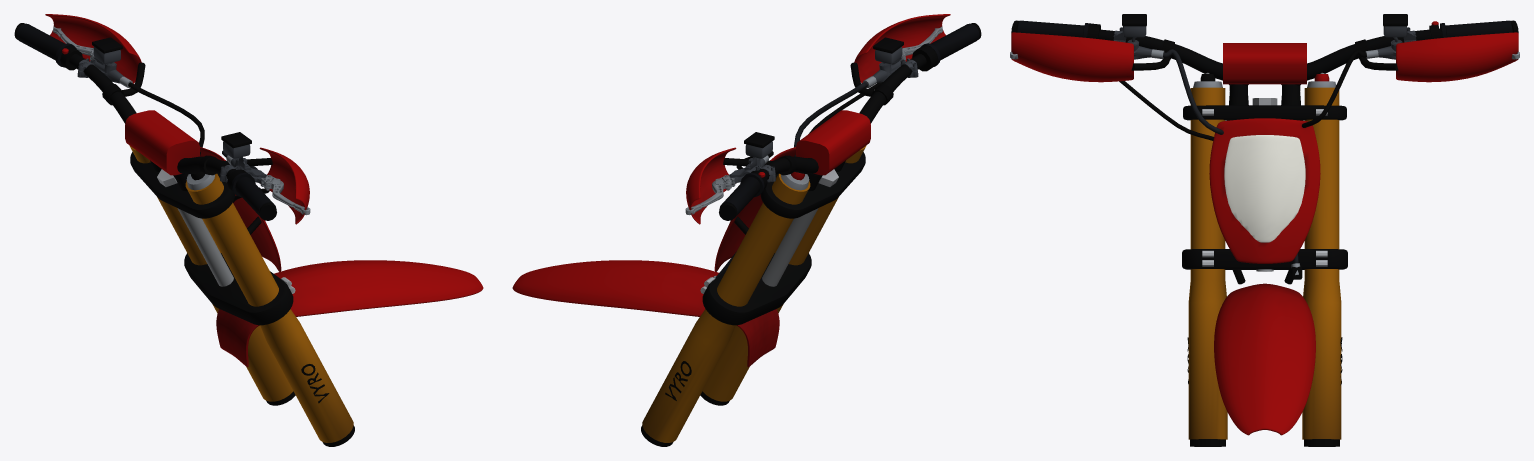
Rendered from bike_supermoto_front.glb.
3 renders of one model, left to right at view 1: azimuth 30°, elevation 25°; view 2: azimuth 150°, elevation 25°; view 3: azimuth 270°, elevation 25°, orthographic.
Visible parts, largest first — view 1: sm_fender_front, sm_forkO1, sm_forkO-1, sm_barpad, sm_clampL, sm_handguard-1, sm_clampU, sm_handlebar, sm_handguard1, sm_stem, sm_numberplate, sm_grip-1 (+5 smaller); view 2: sm_fender_front, sm_forkO-1, sm_forkO1, sm_barpad, sm_clampL, sm_handguard1, sm_clampU, sm_handlebar, sm_handguard-1, sm_stem, sm_numberplate, sm_grip1 (+5 smaller); view 3: sm_fender_front, sm_forkO-1, sm_forkO1, sm_numberfield, sm_numberplate, sm_handguard1, sm_handguard-1, sm_barpad, sm_handlebar, sm_clampL, sm_clampU, sm_grip1 (+4 smaller).
Boxes of the visible parts, left/top/right/bottom form: sm_fender_front: left=216, top=260, right=483, bottom=367; sm_forkO1: left=185, top=173, right=353, bottom=442; sm_forkO-1: left=129, top=145, right=293, bottom=401; sm_barpad: left=125, top=110, right=199, bottom=175; sm_clampL: left=184, top=253, right=293, bottom=325; sm_handguard-1: left=45, top=14, right=141, bottom=83; sm_clampU: left=130, top=152, right=235, bottom=218; sm_handlebar: left=69, top=54, right=236, bottom=178; sm_handguard1: left=259, top=147, right=309, bottom=224; sm_stem: left=177, top=208, right=233, bottom=286; sm_numberplate: left=200, top=147, right=281, bottom=271; sm_grip-1: left=16, top=23, right=64, bottom=60; sm_fender_front: left=512, top=260, right=779, bottom=367; sm_forkO-1: left=642, top=173, right=810, bottom=442; sm_forkO1: left=702, top=145, right=866, bottom=401; sm_barpad: left=796, top=110, right=870, bottom=175; sm_clampL: left=702, top=253, right=811, bottom=325; sm_handguard1: left=854, top=14, right=950, bottom=82; sm_clampU: left=760, top=152, right=865, bottom=218; sm_handlebar: left=758, top=54, right=926, bottom=179; sm_handguard-1: left=686, top=147, right=736, bottom=224; sm_stem: left=762, top=208, right=818, bottom=286; sm_numberplate: left=714, top=147, right=795, bottom=271; sm_grip1: left=931, top=23, right=979, bottom=60; sm_fender_front: left=1214, top=283, right=1315, bottom=435; sm_forkO-1: left=1302, top=87, right=1341, bottom=439; sm_forkO1: left=1188, top=87, right=1227, bottom=439; sm_numberfield: left=1224, top=135, right=1305, bottom=242; sm_numberplate: left=1209, top=118, right=1320, bottom=263; sm_handguard1: left=1011, top=32, right=1133, bottom=82; sm_handguard-1: left=1396, top=32, right=1518, bottom=82; sm_barpad: left=1223, top=43, right=1306, bottom=84; sm_handlebar: left=1017, top=26, right=1512, bottom=80; sm_clampL: left=1182, top=249, right=1347, bottom=269; sm_clampU: left=1183, top=105, right=1346, bottom=120; sm_grip1: left=1017, top=20, right=1084, bottom=37.
Size of the model in its own units: 0.6777 by 0.6972 by 0.8773.
